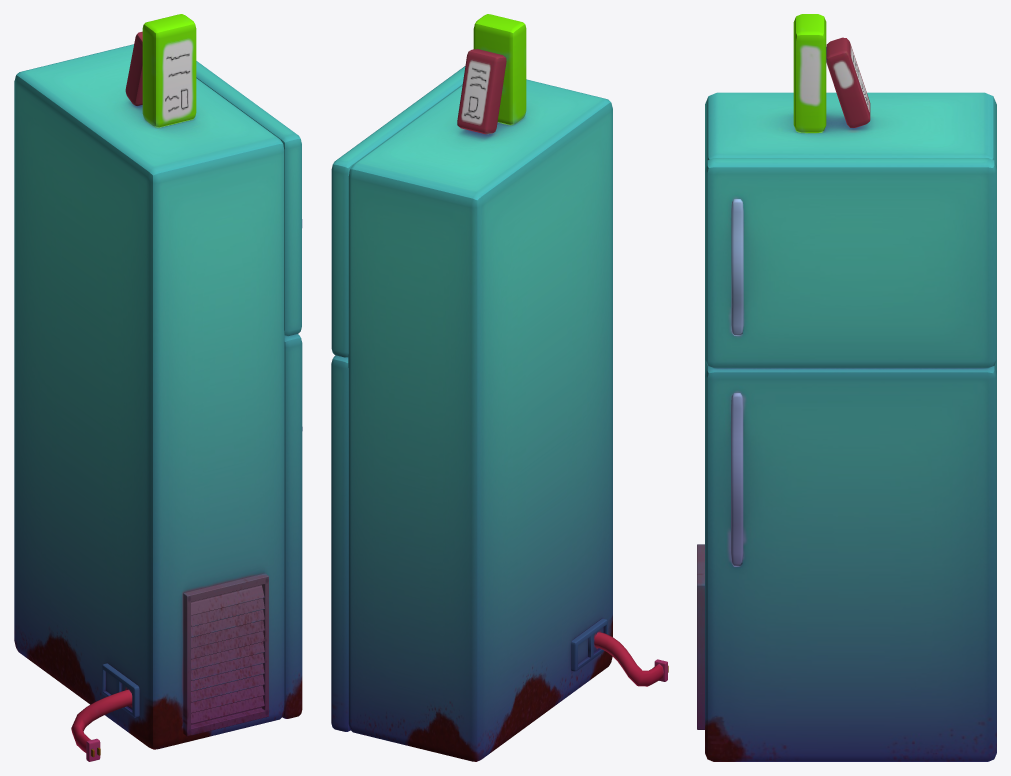
The model's file is fridge.gltf.
The picture shows the model from 3 angles, left to right: view 1: azimuth 30°, elevation 25°; view 2: azimuth 150°, elevation 25°; view 3: azimuth 270°, elevation 25°; orthographic projection. The views are drawn at different scales.
Parts seen in each view (by area): view 1: sweep2; view 2: sweep2; view 3: sweep2.
Boxes of the visible parts, bbox=[...] form: sweep2: bbox=[14, 14, 302, 761]; sweep2: bbox=[331, 14, 668, 761]; sweep2: bbox=[697, 14, 996, 761].
Bounding box in the file's own units: 11.86 × 34.75 × 13.5.
Materials: 1 (1 with a texture image).
